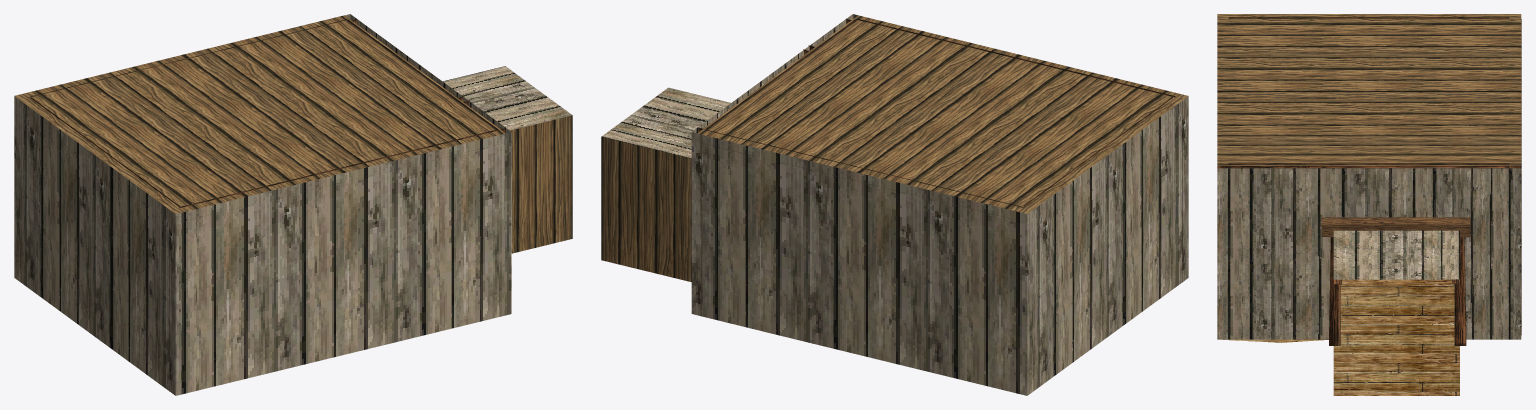
Rendered from LAKETOWN_WAREHOUSE2_PS_WH2_SIDEROOM77__GX.fbx.
3 views of the same model, side by side, from view 1: azimuth 30°, elevation 25°; view 2: azimuth 150°, elevation 25°; view 3: azimuth 270°, elevation 25° (orthographic). The views are drawn at different scales.
Parts seen in each view (by area): view 1: LAKETOWN_WAREHOUSE2_PS_WH2_SIDEROOM77__GX; view 2: LAKETOWN_WAREHOUSE2_PS_WH2_SIDEROOM77__GX; view 3: LAKETOWN_WAREHOUSE2_PS_WH2_SIDEROOM77__GX.
Part boxes in pixels (x1,y1,x2,y2): LAKETOWN_WAREHOUSE2_PS_WH2_SIDEROOM77__GX: (14,14,572,395); LAKETOWN_WAREHOUSE2_PS_WH2_SIDEROOM77__GX: (601,14,1188,395); LAKETOWN_WAREHOUSE2_PS_WH2_SIDEROOM77__GX: (1217,14,1521,395).
Bounding box in the file's own units: 109936 × 41955 × 67110.
Materials: 9 (9 with a texture image).
